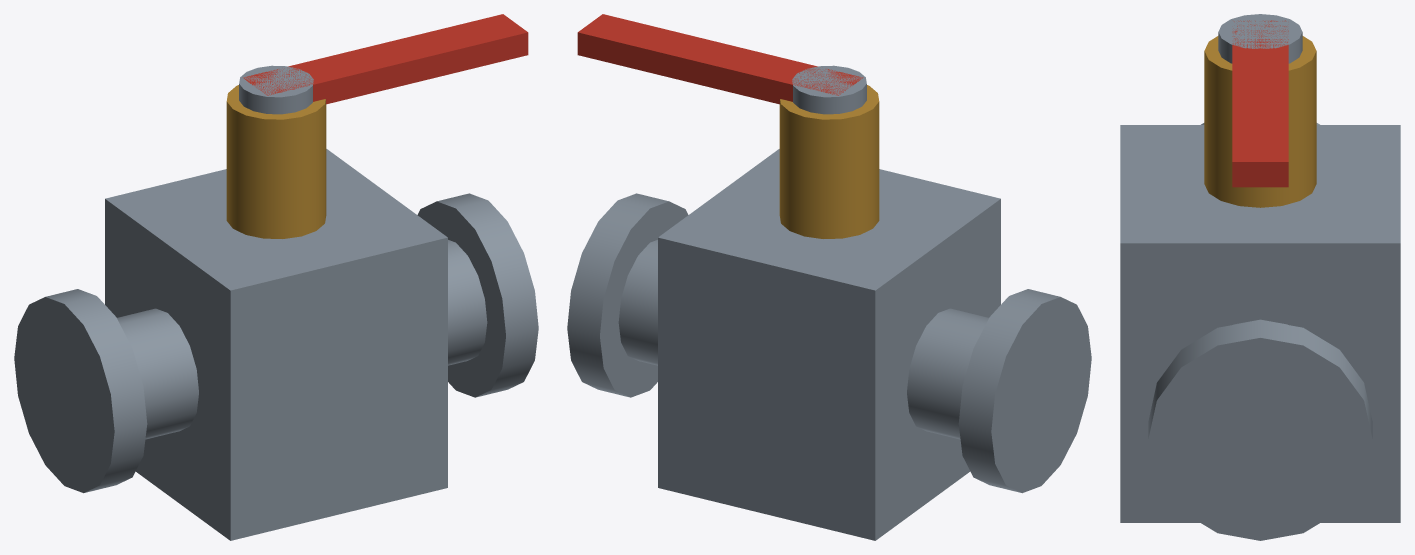
File: isolation-valve.glb
The picture shows the model from 3 angles, left to right: view 1: azimuth 30°, elevation 25°; view 2: azimuth 150°, elevation 25°; view 3: azimuth 270°, elevation 25°; orthographic projection. The views are drawn at different scales.
Visible parts, largest first — view 1: object 1, object 3, handle, object 6, object 5, object 2, object 4; view 2: object 1, object 3, handle, object 6, object 5, object 2, object 4; view 3: object 1, object 5, handle, object 6.
Part boxes in pixels (x1,y1,x2,y2): object 1: [105, 149, 447, 540]; object 3: [14, 289, 147, 493]; handle: [239, 14, 528, 114]; object 6: [226, 85, 326, 238]; object 5: [417, 193, 538, 397]; object 2: [117, 308, 198, 439]; object 4: [448, 240, 487, 365]; object 1: [658, 149, 1000, 540]; object 3: [958, 289, 1091, 493]; handle: [577, 14, 866, 114]; object 6: [779, 85, 879, 238]; object 5: [567, 193, 688, 397]; object 2: [907, 308, 988, 439]; object 4: [618, 240, 657, 365]; object 1: [1120, 125, 1400, 522]; object 5: [1148, 320, 1372, 540]; handle: [1218, 14, 1302, 187]; object 6: [1204, 36, 1316, 207].
Bounding box in the file's own units: 0.415 × 0.34 × 0.2.
